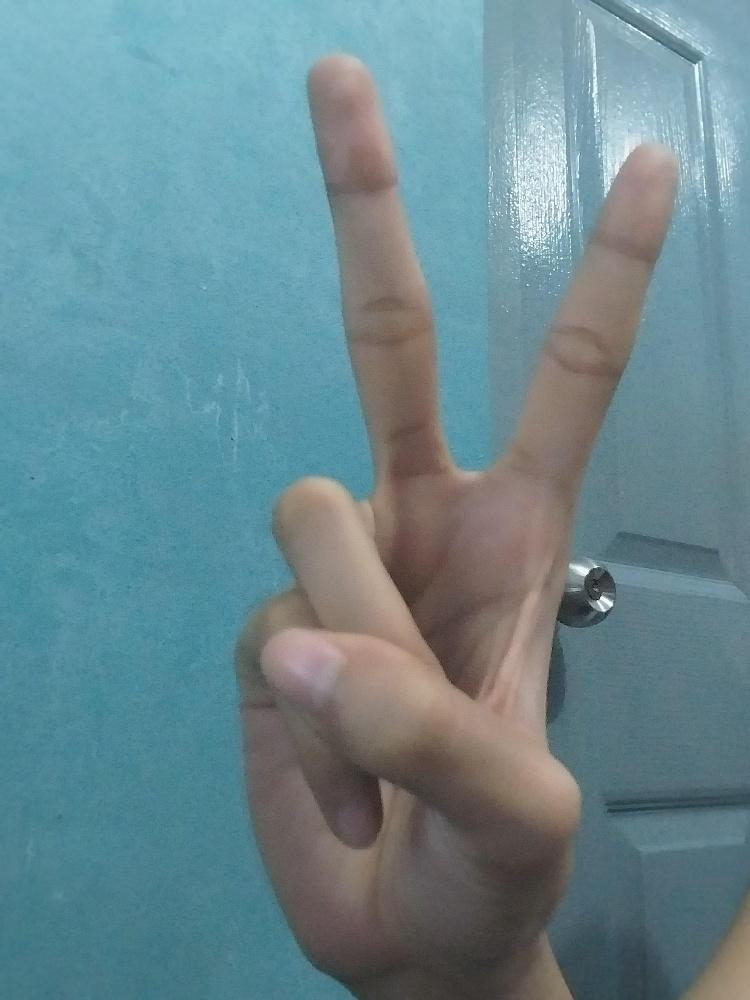v: (228, 56, 681, 972)
